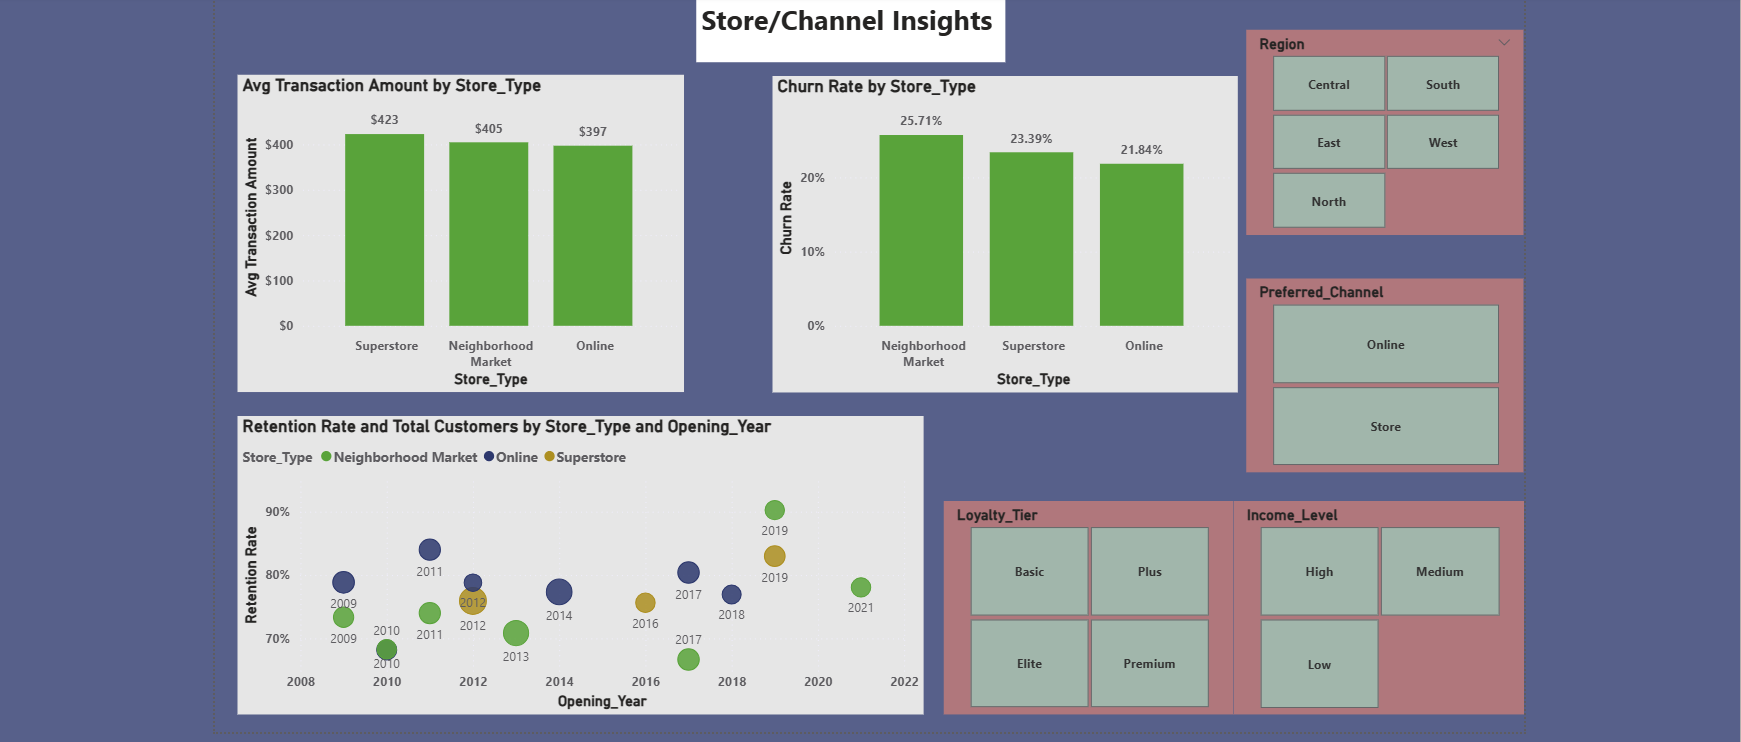

The page's visual inventory and layout, read from the dashboard file:
{"tool":"powerbi","page":{"name":"Store/Channel Insights","canvas":[1280,720],"ordinal":7},"visuals":[{"type":"clusteredColumnChart","fields":{"Y":["measures .Avg Transaction Amount"],"Category":["Store_Locations.Store_Type"]},"box":[22,77,436.6,310.6],"z":0},{"type":"clusteredColumnChart","fields":{"Category":["Store_Locations.Store_Type"],"Y":["measures .Churn Rate (By Store)"]},"box":[545.4,78.3,454.9,309.4],"z":1000},{"type":"scatterChart","fields":{"X":["Store_Locations.Opening_Year"],"Y":["measures .Retention Rate"],"Series":["Store_Locations.Store_Type"],"Size":["measures .Total Customers (By Store)"]},"box":[22,410.9,671.3,292.3],"z":2000},{"type":"textbox","box":[470.8,0,302,64.8],"z":3000},{"type":"slicer","fields":{"Values":["Customer_Demographics.Region"]},"box":[1008.8,33,271.5,200.5],"z":4000},{"type":"slicer","fields":{"Values":["Customer_Demographics.Preferred_Channel"]},"box":[1009.1,276.1,271,189.2],"z":5000},{"type":"slicer","fields":{"Values":["Customer_Demographics.Income_Level"]},"box":[996.6,494,283.7,209.1],"z":6000},{"type":"slicer","fields":{"Values":["Loyalty_Program.Loyalty_Tier"]},"box":[713,494.4,283.2,208.7],"z":7000}]}

Visuals, with their boxes in screenshot pixels (x1, y1, x2, y2):
clusteredColumnChart - measures .Avg Transaction Amount x Store_Locations.Store_Type: 235,74,680,390
clusteredColumnChart - Store_Locations.Store_Type x measures .Churn Rate (By Store): 769,75,1232,390
scatterChart - Store_Locations.Opening_Year x measures .Retention Rate: 235,414,919,712
textbox: 693,0,1000,61
slicer - Customer_Demographics.Region: 1240,29,1517,233
slicer - Customer_Demographics.Preferred_Channel: 1241,277,1517,469
slicer - Customer_Demographics.Income_Level: 1228,499,1517,712
slicer - Loyalty_Program.Loyalty_Tier: 939,499,1228,712
